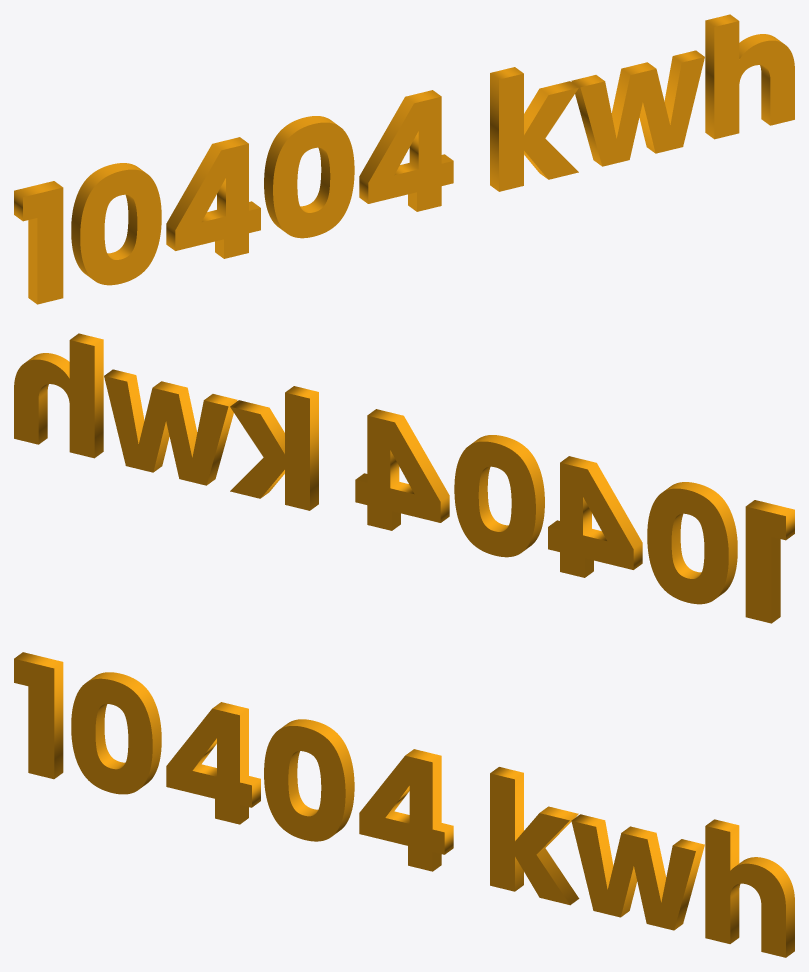
Rendered from Simsek2text.gltf.
3 renders of one model, top to bottom at view 1: azimuth 30°, elevation 25°; view 2: azimuth 150°, elevation 25°; view 3: azimuth 330°, elevation 25°, orthographic.
Visible parts, largest first — view 1: şimsek2metin.001; view 2: şimsek2metin.001; view 3: şimsek2metin.001.
Part boxes in pixels (box(x1,y1,x2,y2)): şimsek2metin.001: box(14, 14, 794, 304); şimsek2metin.001: box(14, 333, 794, 623); şimsek2metin.001: box(14, 652, 794, 957).
Bounding box in the file's own units: 0.1572 × 0.022 × 0.00318.
